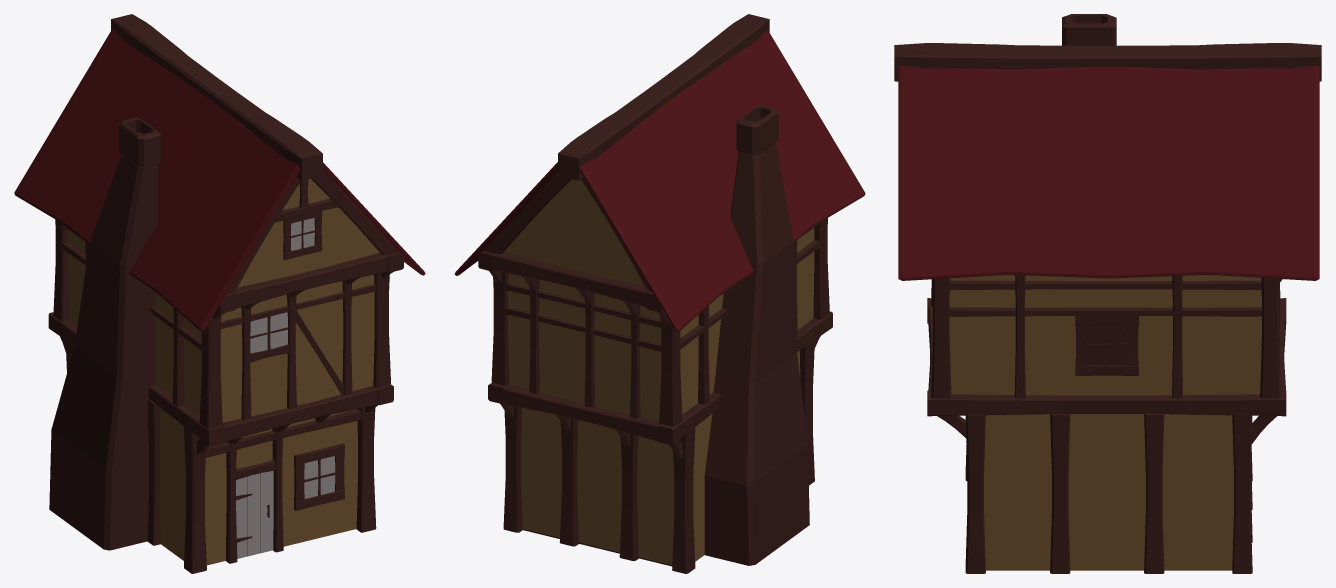
The model's file is Medieval_House_Assets_Pack 1.fbx.
3 renders of one model, left to right at view 1: azimuth 30°, elevation 25°; view 2: azimuth 150°, elevation 25°; view 3: azimuth 270°, elevation 25°, orthographic. The views are drawn at different scales.
Visible parts, largest first — view 1: Mortar_House_Small_2.001; view 2: Mortar_House_Small_2.001; view 3: Mortar_House_Small_2.001.
Boxes of the visible parts, x1,y1,x2,y2 form: Mortar_House_Small_2.001: [14, 14, 425, 573]; Mortar_House_Small_2.001: [454, 14, 865, 573]; Mortar_House_Small_2.001: [894, 14, 1321, 573].
Bounding box in the file's own units: 532 × 873 × 716.
